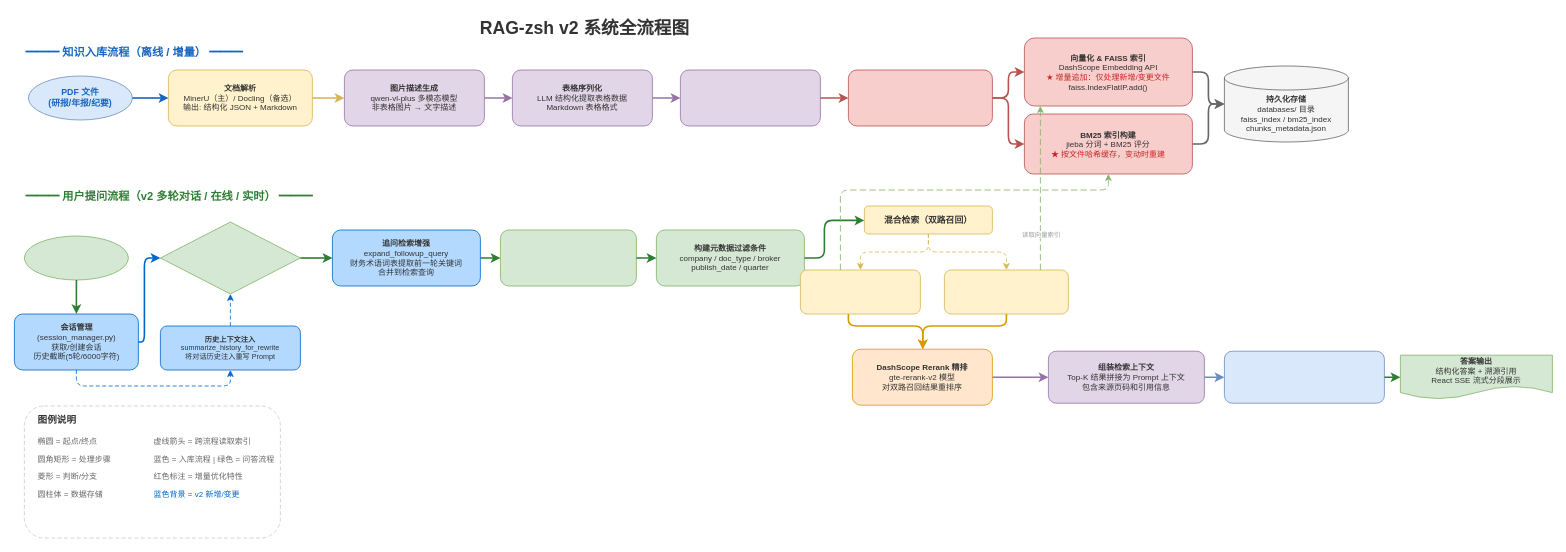
Some shapes in this 1566 by 552 pixel diagram are drawn without their labels. Each missing label, with the centre of its shape:
BM25 关键词检索 jieba 分词 + TF-IDF + 元数据过滤: point 860,291
FAISS 向量语义检索 余弦相似度 Top-K + 元数据过滤: point 1006,291
LLM 生成答案 fe8 GPT-4-turbo 分段输出 + 溯源引用: point 1304,376
报告规整合并 按公司名聚合分片内容 统一 Markdown 格式: point 750,97
抽取公司名 从问题或 subset CSV 中 确定性提取目标公司名称: point 568,257
文本分块 Token 切分（chunk_size 可配） 表格特殊处理，保留上下文: point 920,97
用户输入问题 (React Web 界面): point 76,257
问题分类 + 重写 fe8 GPT-3.5-turbo 输出: completed_question rewritten_query / doc_type: point 230,257
